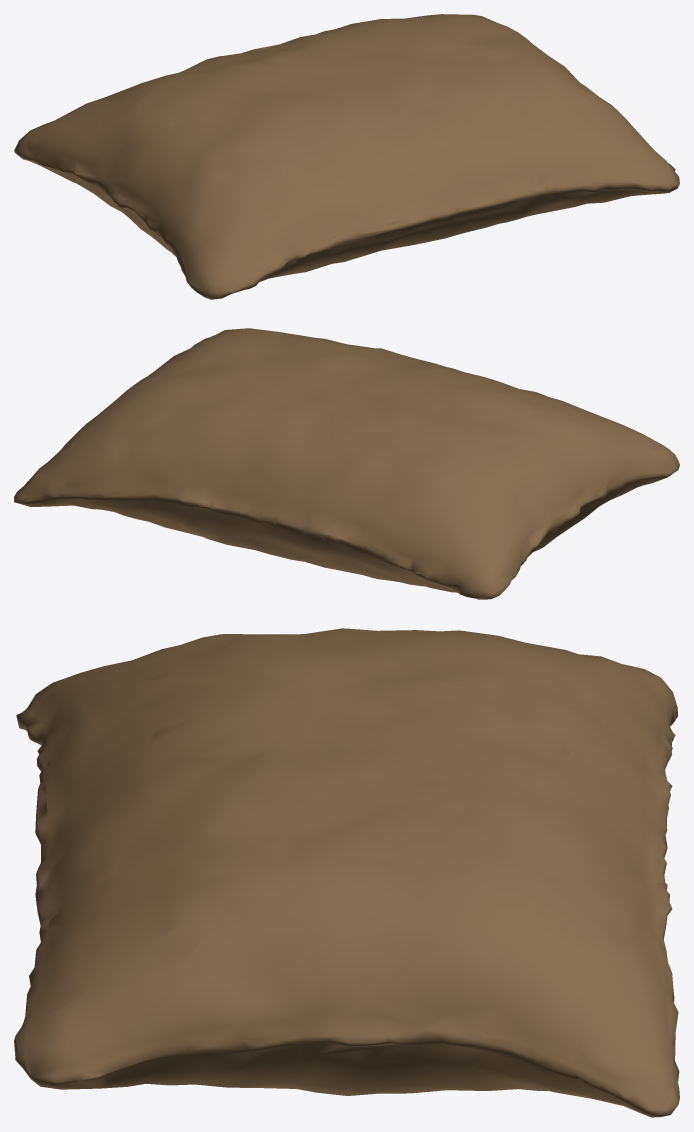
3 renders of one model, top to bottom at view 1: azimuth 30°, elevation 25°; view 2: azimuth 150°, elevation 25°; view 3: azimuth 270°, elevation 25°, orthographic. The views are drawn at different scales.
Parts seen in each view (by area): view 1: Sandbag_LQ; view 2: Sandbag_LQ; view 3: Sandbag_LQ.
Part boxes in pixels (left/top/right/bottom): Sandbag_LQ: left=14, top=14, right=679, bottom=299; Sandbag_LQ: left=14, top=328, right=679, bottom=599; Sandbag_LQ: left=14, top=628, right=679, bottom=1117.
Bounding box in the file's own units: 0.9009 × 0.265 × 0.6447.
